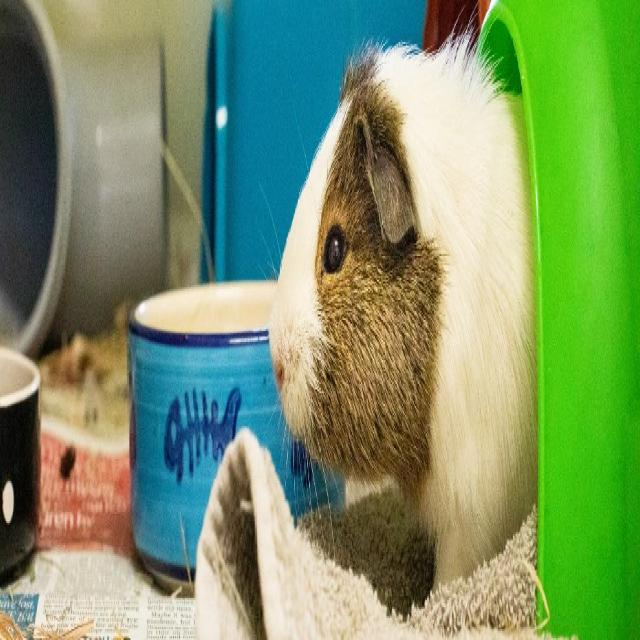guinea pig: (270, 44, 538, 592)
